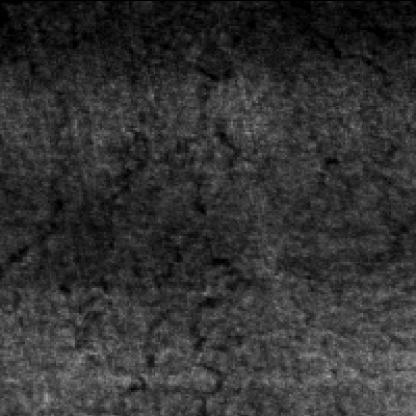crazing: (38, 95, 196, 393), (160, 13, 348, 229), (114, 224, 280, 414)
